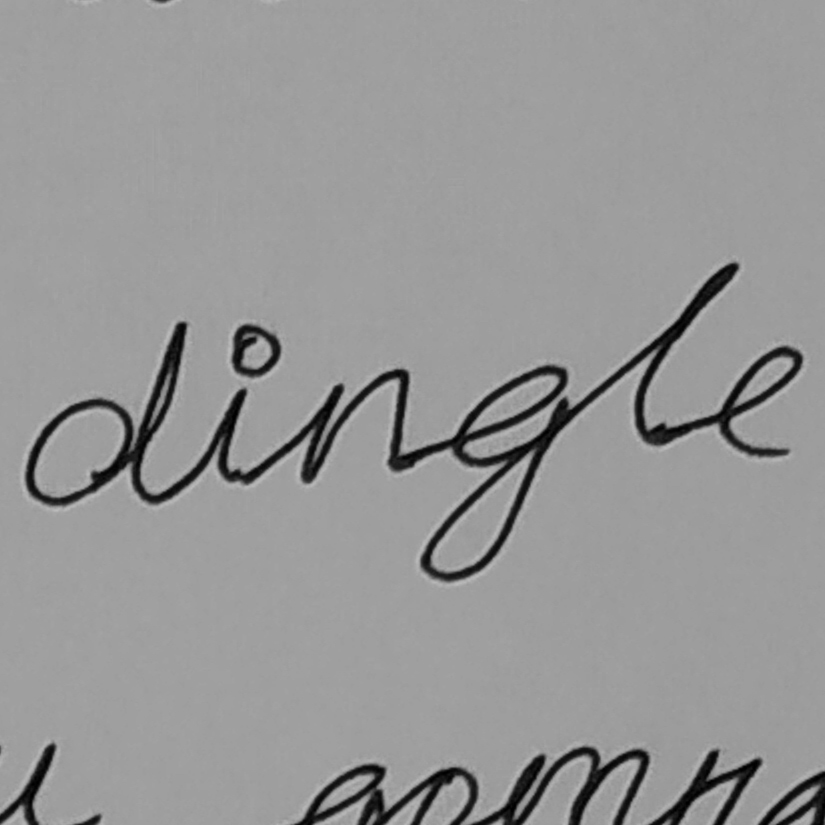d: (17, 317, 190, 514)
e: (717, 341, 808, 466)
g: (415, 360, 573, 584)
i: (211, 320, 284, 491)
l: (627, 260, 747, 449)
n: (295, 365, 412, 489)
